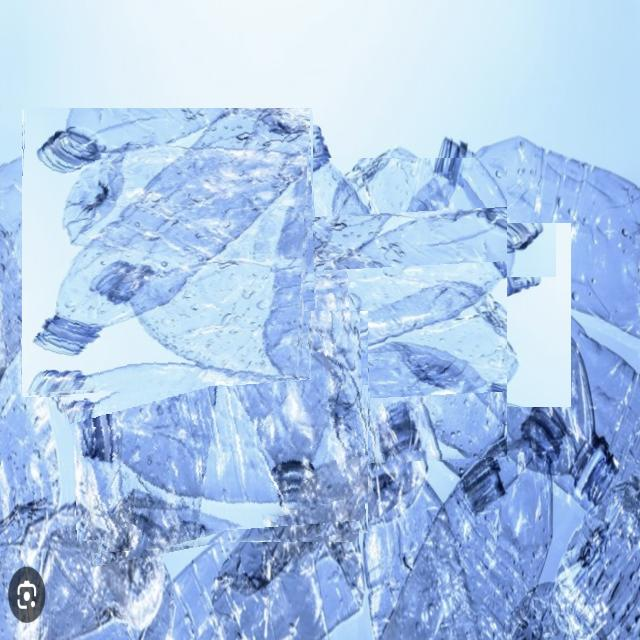recyclable: (193, 158, 507, 472), (22, 108, 312, 397), (61, 311, 368, 555)
